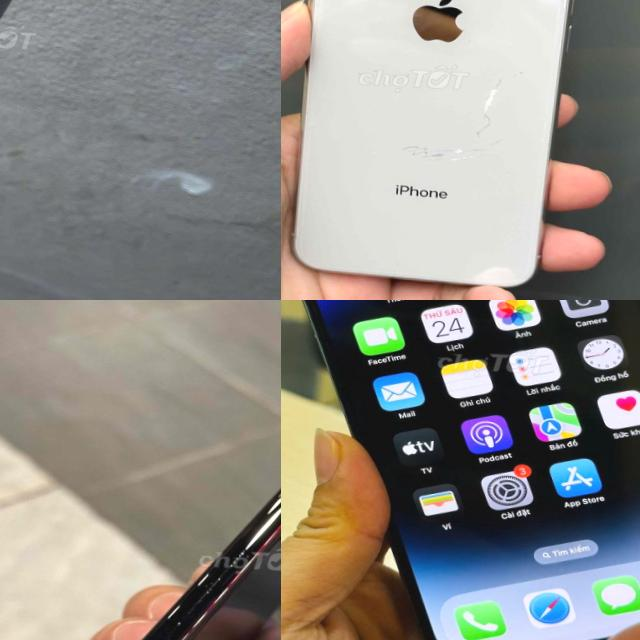gen_11: (9, 389, 281, 640)
gen_14: (281, 300, 640, 640)
gen_x_xs: (293, 0, 573, 285)
